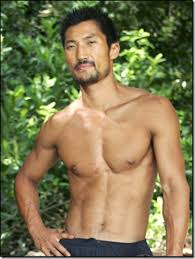asian_male: (58, 16, 121, 84)
